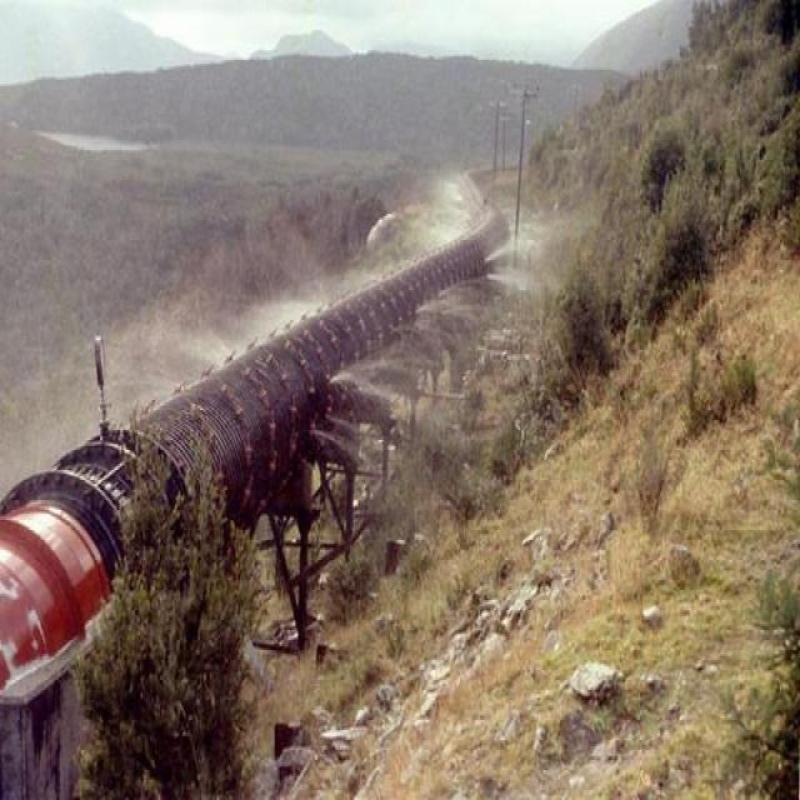Fracture: (260, 340, 398, 450), (439, 200, 560, 306)
